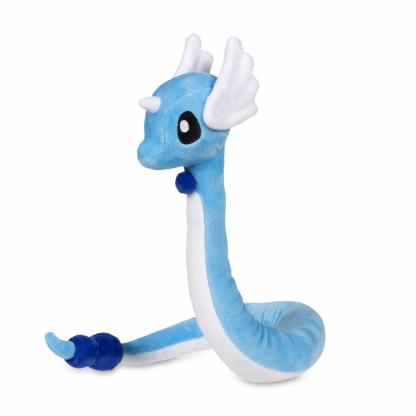Dragonair: (44, 24, 328, 396)
